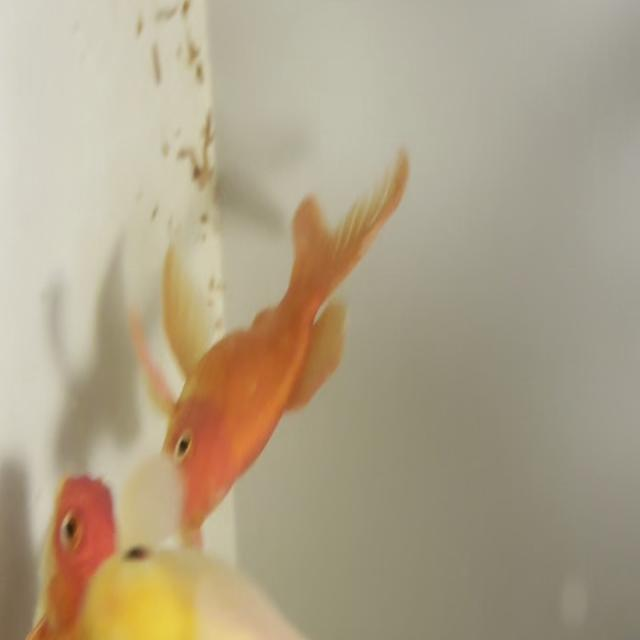fish: (130, 149, 403, 547), (73, 520, 485, 640), (9, 476, 260, 640)
